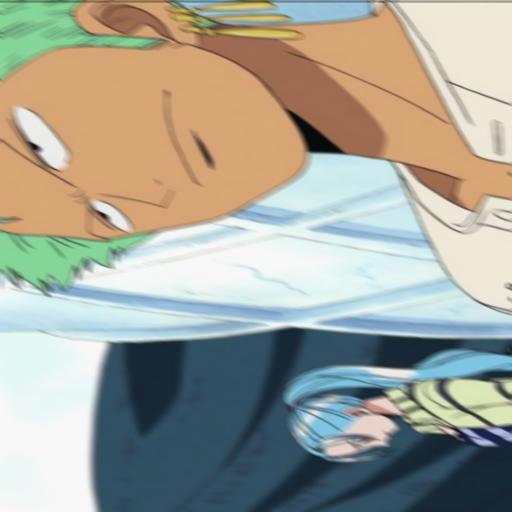Zoro: (1, 0, 512, 326)
